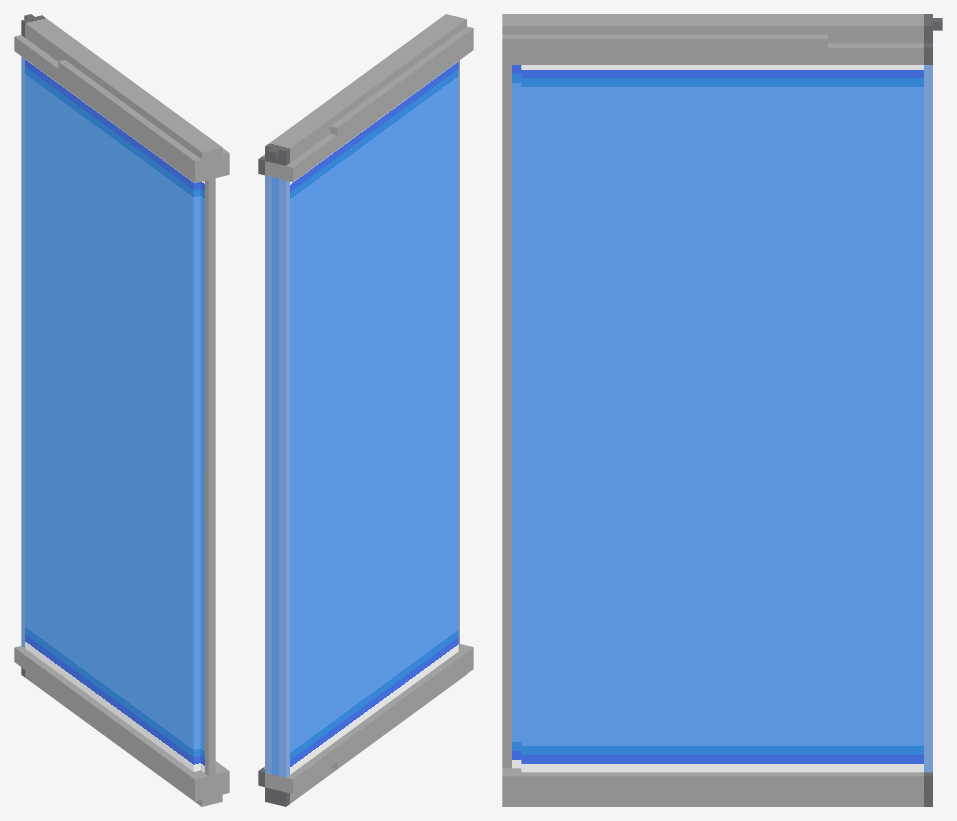
The model's file is 自动门.gltf.
3 views of the same model, side by side, from view 1: azimuth 30°, elevation 25°; view 2: azimuth 150°, elevation 25°; view 3: azimuth 270°, elevation 25° (orthographic). The views are drawn at different scales.
Visible parts, largest first — view 1: Object; view 2: Object; view 3: Object.
Boxes of the visible parts, <box> form: Object: <box>14,14,229,806</box>; Object: <box>258,14,473,806</box>; Object: <box>502,14,942,806</box>.
Bounding box in the file's own units: 5 × 90 × 46.
Materials: 1 (1 with a texture image).
